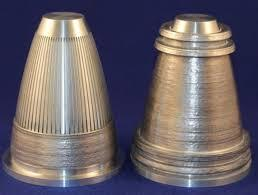thruster: (0, 25, 130, 189), (129, 55, 254, 191)
